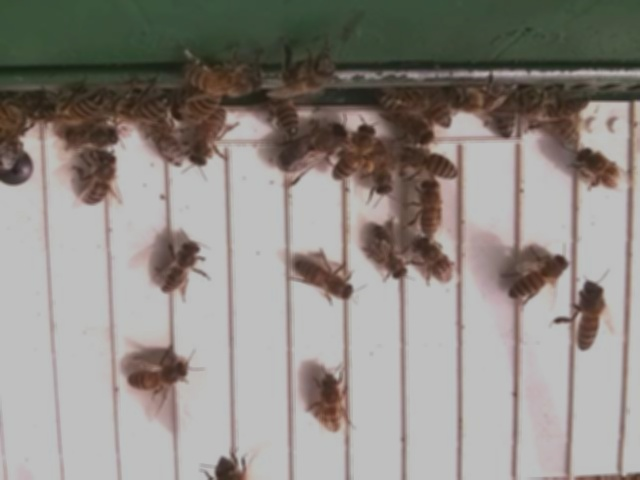Drone: (274, 122, 349, 176)
Worker: (505, 252, 572, 302), (293, 256, 357, 307), (158, 239, 206, 298), (570, 280, 608, 354), (336, 121, 378, 184), (570, 147, 624, 196), (400, 144, 464, 185), (124, 359, 195, 395), (369, 225, 411, 283), (412, 235, 456, 289), (187, 109, 227, 168), (117, 89, 177, 127), (79, 149, 117, 209), (51, 87, 109, 123), (318, 372, 349, 437), (415, 180, 446, 242), (62, 122, 121, 153), (370, 142, 396, 201), (269, 90, 300, 139)
